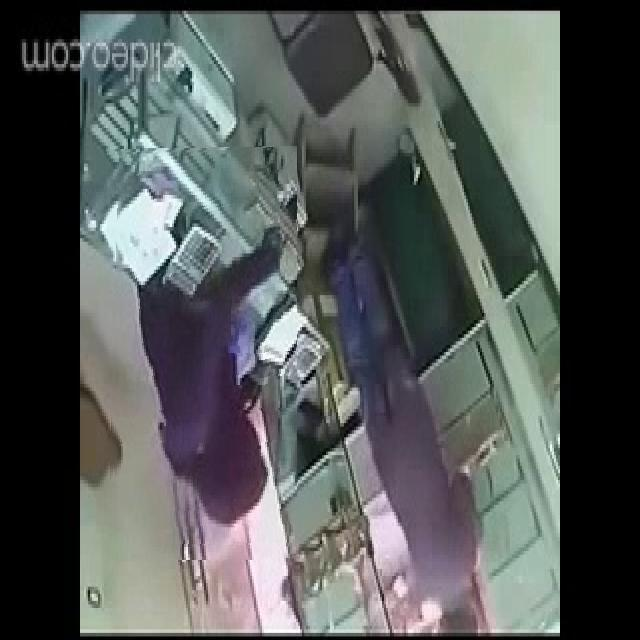Shoplifting: (107, 146, 297, 560)
